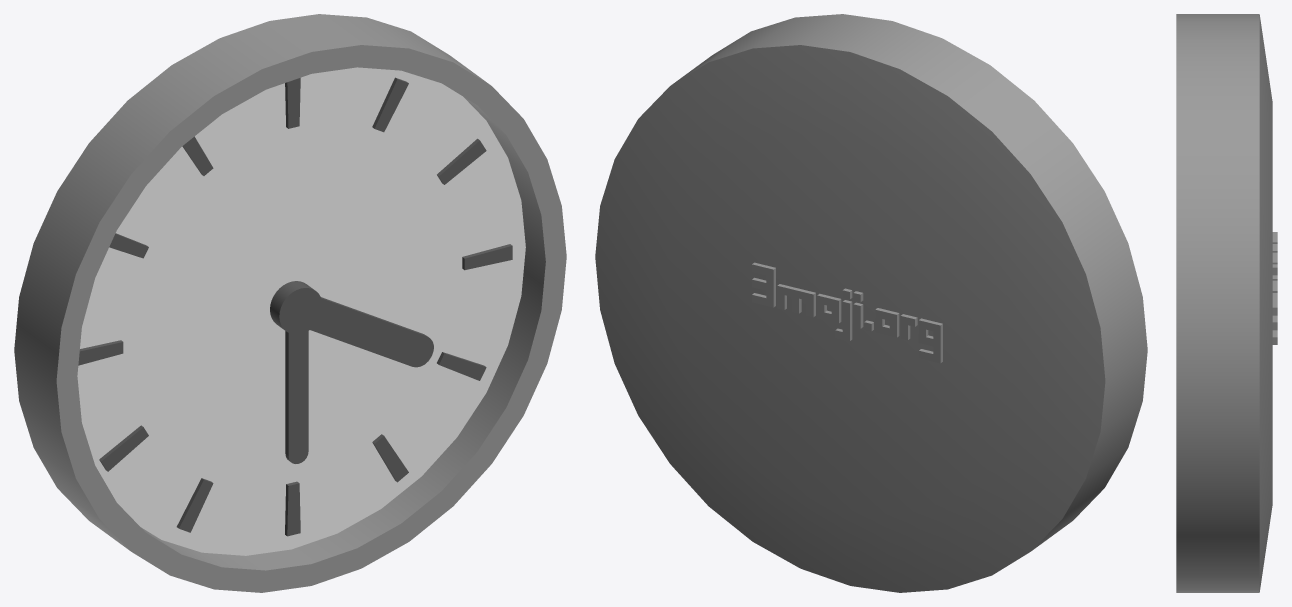
File: four_thirty.glb
3 renders of one model, left to right at view 1: azimuth 30°, elevation 25°; view 2: azimuth 150°, elevation 25°; view 3: azimuth 270°, elevation 25°, orthographic.
Parts seen in each view (by area): view 1: Circle.2456; view 2: Circle.2456; view 3: Circle.2456.
Boxes of the visible parts, x1,y1,x2,y2 form: Circle.2456: (14, 14, 566, 592); Circle.2456: (595, 14, 1147, 592); Circle.2456: (1176, 14, 1277, 592).
Size of the model in its own units: 2.33 by 2.33 by 0.4069.
Materials: 1 (1 with a texture image).
